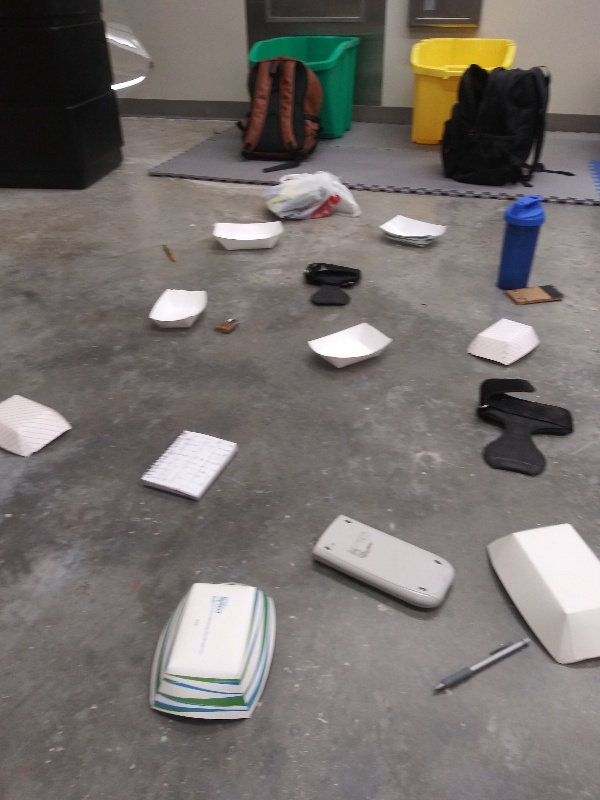plate: (147, 577, 281, 727), (481, 513, 600, 669), (1, 387, 76, 461), (305, 320, 395, 373), (462, 313, 543, 368), (142, 286, 214, 336), (374, 209, 452, 252), (209, 217, 290, 255)
